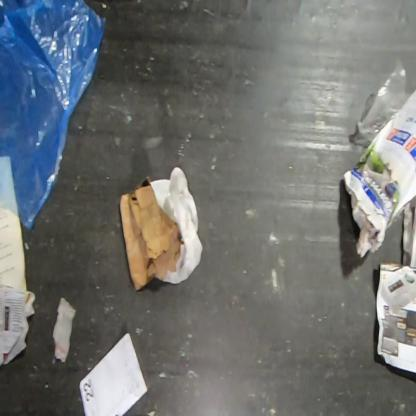cardboard: (343, 88, 415, 258), (120, 167, 204, 291)
soft_plastic: (0, 0, 107, 231), (357, 58, 414, 147)
